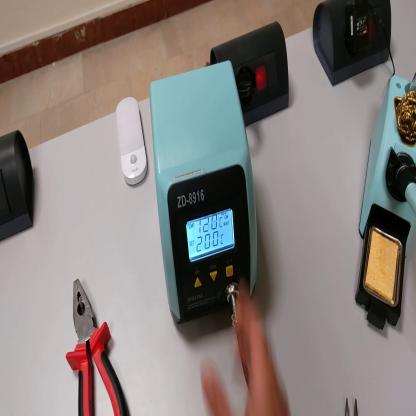hand: (199, 271, 290, 416)
pliers: (66, 280, 130, 415), (345, 400, 362, 415)
socket: (209, 21, 289, 130), (312, 3, 395, 85)
welder base: (353, 69, 416, 336)
welder probe tip: (396, 169, 415, 216)
welder station: (150, 60, 258, 327)
